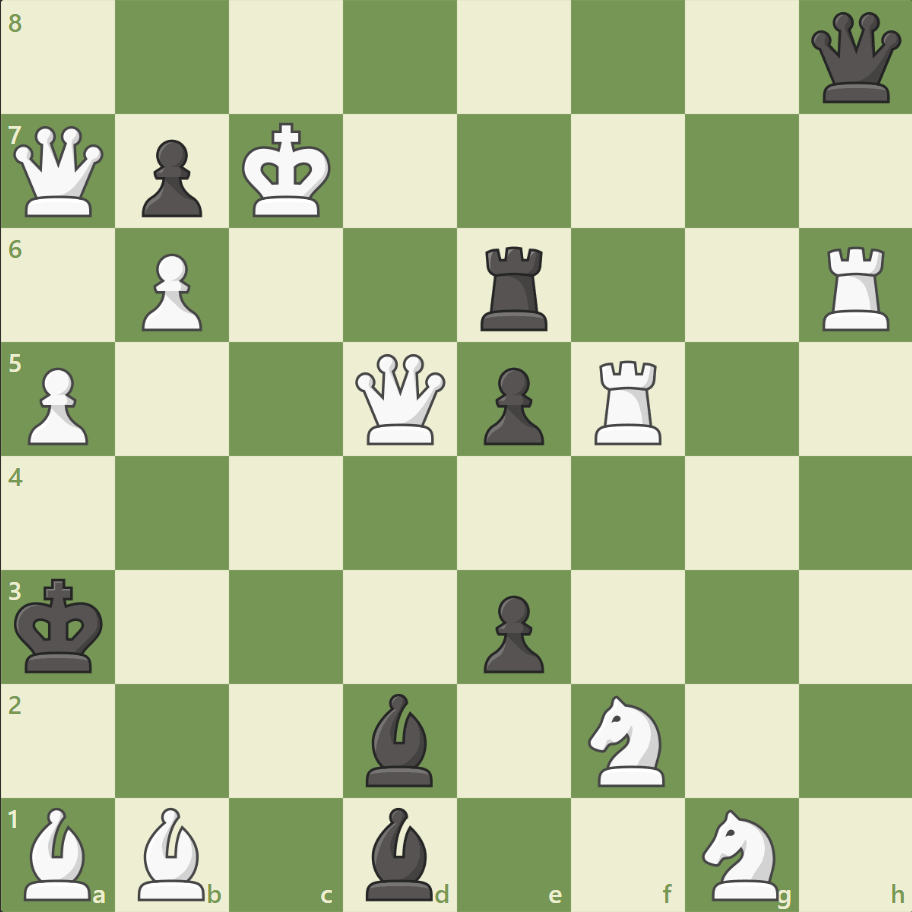B: (17, 801, 101, 904), (131, 801, 215, 904)
K: (238, 117, 338, 225)
N: (579, 688, 676, 791), (692, 802, 789, 904)
P: (133, 246, 208, 337), (20, 359, 95, 450)
Q: (10, 122, 109, 222), (351, 349, 450, 449)
R: (814, 239, 897, 336), (587, 352, 670, 449)
b: (358, 687, 442, 790), (358, 801, 442, 904)
k: (11, 571, 111, 679)
p: (133, 132, 208, 223), (474, 359, 549, 450), (474, 586, 549, 677)
q: (805, 9, 904, 108)
r: (473, 239, 556, 336)
